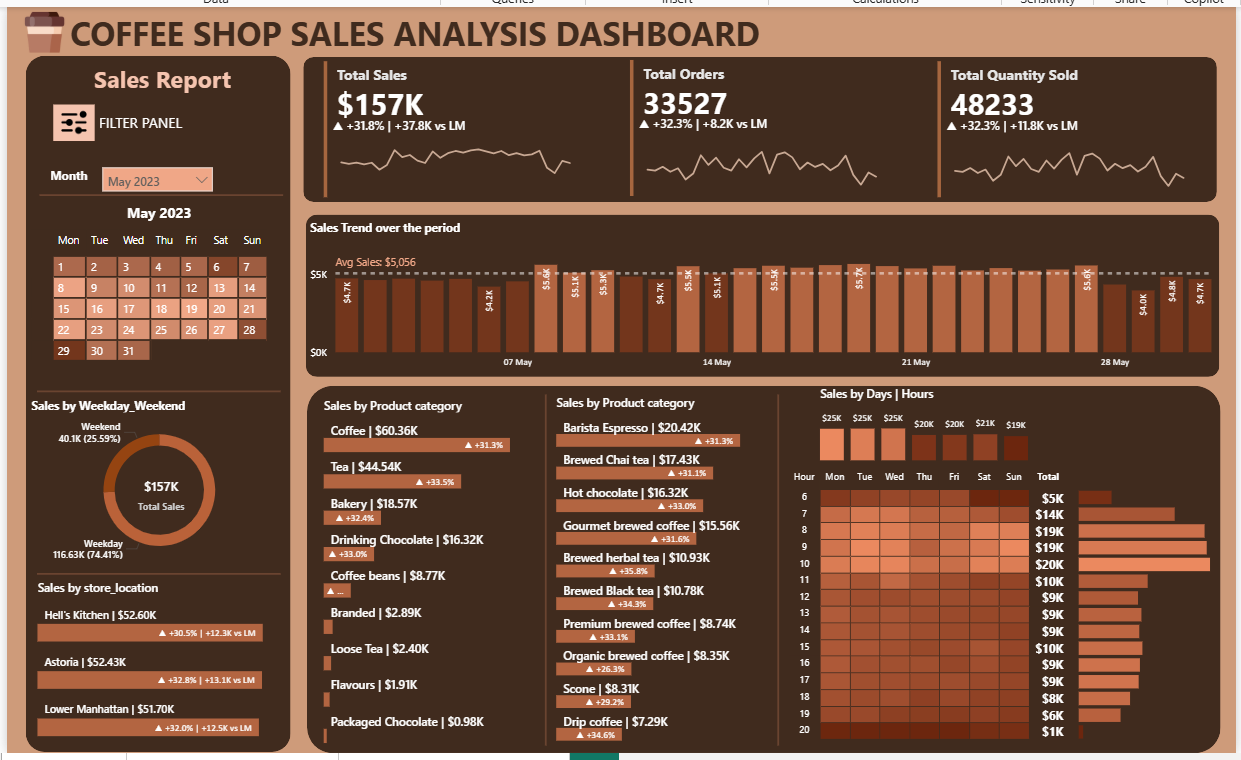

The page's visual inventory and layout, read from the dashboard file:
{"tool":"powerbi","page":{"name":"Dashboard","canvas":[1400,850],"ordinal":0},"visuals":[{"type":"shape","box":[21.4,55.5,301.9,793.3],"z":0},{"type":"shape","box":[337.6,57,1041.1,165.2],"z":1000},{"type":"textbox","box":[66.9,0,854.6,71.2],"z":2000},{"type":"slicer","fields":{"Values":["Date Table.Month Year"]},"box":[104,178,135.3,32.8],"z":3000},{"type":"cardVisual","fields":{"Data":["Transactions.Total Orders"]},"box":[705.7,55.8,300.5,165.2],"z":4000,"group":"g2"},{"type":"group","id":"g1","title":"Group 1","box":[356.1,57.3,300.5,165.2],"z":4000},{"type":"cardVisual","fields":{"Data":["Transactions.Total Sales"]},"box":[356.1,57.3,300.5,165.2],"z":4000,"group":"g1"},{"type":"cardVisual","fields":{"Data":["Transactions.Total Quantity Sold"]},"box":[1055.4,57.3,300.5,165.2],"z":4000,"group":"g3"},{"type":"group","id":"g2","title":"Group 1","box":[705.7,55.8,300.5,165.2],"z":5000},{"type":"group","id":"g3","title":"Group 1","box":[1055.4,57.3,300.5,165.2],"z":6000},{"type":"lineChart","fields":{"Category":["Date Table.Date.Variation.Date Hierarchy.Year","Date Table.Date.Variation.Date Hierarchy.Quarter","Date Table.Date.Variation.Date Hierarchy.Month","Date Table.Date.Variation.Date Hierarchy.Day"],"Y":["Transactions.Total Orders"]},"box":[715.7,124.2,290.6,85.5],"z":6000,"group":"g2"},{"type":"lineChart","fields":{"Category":["Date Table.Date.Variation.Date Hierarchy.Year","Date Table.Date.Variation.Date Hierarchy.Quarter","Date Table.Date.Variation.Date Hierarchy.Month","Date Table.Date.Variation.Date Hierarchy.Day"],"Y":["Sum(Transactions.Sales)"]},"box":[366.1,125.7,290.6,85.5],"z":6000,"group":"g1"},{"type":"lineChart","fields":{"Category":["Date Table.Date.Variation.Date Hierarchy.Year","Date Table.Date.Variation.Date Hierarchy.Quarter","Date Table.Date.Variation.Date Hierarchy.Month","Date Table.Date.Variation.Date Hierarchy.Day"],"Y":["Transactions.Total Orders"]},"box":[1065.4,125.7,290.6,85.5],"z":6000,"group":"g3"},{"type":"pivotTable","fields":{"Rows":["Date Table.Week Number"],"Columns":["Date Table.Day Name"],"Values":["Min(Date Table.Day Number)"]},"box":[22.8,249.2,304.8,189.4],"z":7000},{"type":"card","fields":{"Values":["Min(Date Table.Month Year)"]},"box":[128.2,222.2,91.2,27.1],"z":8000},{"type":"shape","box":[34.2,431.6,277.7,12.8],"z":9000},{"type":"shape","box":[37,207.9,277.7,12.8],"z":10000},{"type":"donutChart","title":"Sales by Weekday_Weekend","fields":{"Category":["Date Table.Weekday_Weekend"],"Y":["Sum(Transactions.Sales)"]},"box":[22.8,444.4,301.9,195.1],"z":11000},{"type":"card","fields":{"Values":["Transactions.Total Sales"]},"box":[129.6,522.7,92.6,64.1],"z":12000},{"type":"shape","box":[34.2,639.5,277.7,12.8],"z":13000},{"type":"clusteredBarChart","title":"Sales by store_location","fields":{"Category":["Transactions.store_location"],"Y":["Transactions.Place holder","Transactions.Total Sales"]},"box":[29.9,652.3,292,186.6],"z":14000},{"type":"shape","box":[341.8,431.6,1041.1,418.7],"z":15000},{"type":"shape","box":[340.4,236.4,1041.1,185.2],"z":16000},{"type":"columnChart","title":"Sales Trend over the period","fields":{"Category":["Transactions.transaction_date"],"Y":["Transactions.Total Sales"]},"box":[340.4,242.1,1041.1,179.5],"z":17000},{"type":"clusteredBarChart","title":"Sales by Product category","fields":{"Y":["Transactions.Place holder","Transactions.Total Sales"],"Category":["Transactions.product_category"]},"box":[356.1,444.4,250.7,400.2],"z":18000},{"type":"shape","box":[606.7,441.5,14.2,400.2],"z":19000},{"type":"clusteredBarChart","title":"Sales by Product category","fields":{"Y":["Transactions.Place holder","Transactions.Total Sales"],"Category":["Transactions.product_type"]},"box":[621,441.5,250.7,400.2],"z":20000},{"type":"shape","box":[871.7,441.5,14.2,400.2],"z":21000},{"type":"pivotTable","fields":{"Rows":["Transactions.Hour"],"Columns":["Date Table.Day Name"],"Values":["Transactions.Total Sales"]},"box":[885.9,522.7,330.4,321.9],"z":22000},{"type":"barChart","fields":{"Category":["Transactions.Hour"],"Y":["Transactions.Total Sales"]},"box":[1216.3,538.4,162.4,300.5],"z":23000},{"type":"columnChart","title":"Sales by Days | Hours","fields":{"Y":["Transactions.Total Sales"],"Category":["Date Table.Day Name"]},"box":[921.5,431.6,247.8,91.2],"z":24000},{"type":"textbox","box":[37,178,66.9,29.9],"z":25000},{"type":"textbox","box":[78.3,58.4,198,57],"z":26000},{"type":"textbox","box":[99.7,115.4,119.6,34.2],"z":27000},{"type":"image","box":[52.7,111.1,47,41.3],"z":28000},{"type":"image","box":[7.1,0,71.2,57],"z":29000}]}

Visuals, with their boxes on the page's 1400x850 design canvas (x1, y1, x2, y2). These are canvas units, not pixel positions in the 1241x760 screenshot, which may show the page scaled, cropped or inside an application window:
shape: box(21, 56, 323, 849)
shape: box(338, 57, 1379, 222)
textbox: box(67, 0, 922, 71)
slicer - Date Table.Month Year: box(104, 178, 239, 211)
cardVisual - Transactions.Total Orders: box(706, 56, 1006, 221)
"Group 1" group: box(356, 57, 657, 222)
cardVisual - Transactions.Total Sales: box(356, 57, 657, 222)
cardVisual - Transactions.Total Quantity Sold: box(1055, 57, 1356, 222)
"Group 1" group: box(706, 56, 1006, 221)
"Group 1" group: box(1055, 57, 1356, 222)
lineChart - Date Table.Date.Variation.Date Hierarchy.Year x Date Table.Date.Variation.Date Hierarchy.Quarter: box(716, 124, 1006, 210)
lineChart - Date Table.Date.Variation.Date Hierarchy.Year x Date Table.Date.Variation.Date Hierarchy.Quarter: box(366, 126, 657, 211)
lineChart - Date Table.Date.Variation.Date Hierarchy.Year x Date Table.Date.Variation.Date Hierarchy.Quarter: box(1065, 126, 1356, 211)
pivotTable - Date Table.Week Number x Date Table.Day Name: box(23, 249, 328, 439)
card - Min(Date Table.Month Year): box(128, 222, 219, 249)
shape: box(34, 432, 312, 444)
shape: box(37, 208, 315, 221)
"Sales by Weekday_Weekend" donutChart: box(23, 444, 325, 640)
card - Transactions.Total Sales: box(130, 523, 222, 587)
shape: box(34, 640, 312, 652)
"Sales by store_location" clusteredBarChart: box(30, 652, 322, 839)
shape: box(342, 432, 1383, 850)
shape: box(340, 236, 1382, 422)
"Sales Trend over the period" columnChart: box(340, 242, 1382, 422)
"Sales by Product category" clusteredBarChart: box(356, 444, 607, 845)
shape: box(607, 442, 621, 842)
"Sales by Product category" clusteredBarChart: box(621, 442, 872, 842)
shape: box(872, 442, 886, 842)
pivotTable - Transactions.Hour x Date Table.Day Name: box(886, 523, 1216, 845)
barChart - Transactions.Hour x Transactions.Total Sales: box(1216, 538, 1379, 839)
"Sales by Days | Hours" columnChart: box(922, 432, 1169, 523)
textbox: box(37, 178, 104, 208)
textbox: box(78, 58, 276, 115)
textbox: box(100, 115, 219, 150)
image: box(53, 111, 100, 152)
image: box(7, 0, 78, 57)
